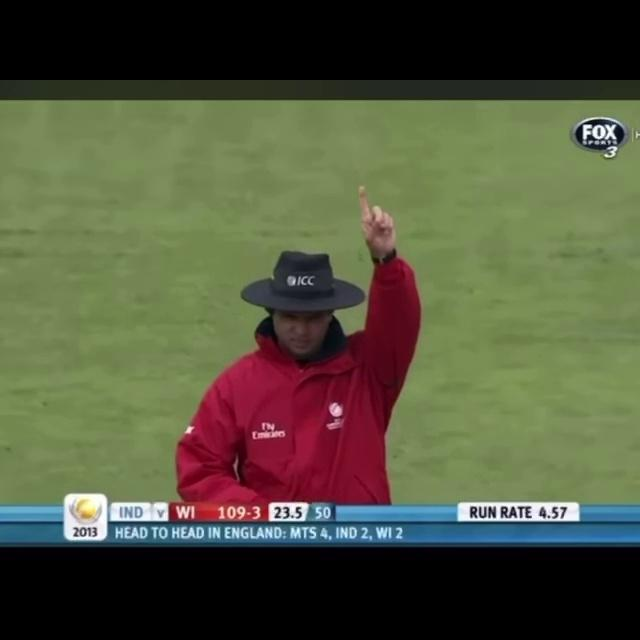umpire: (145, 173, 503, 502)
